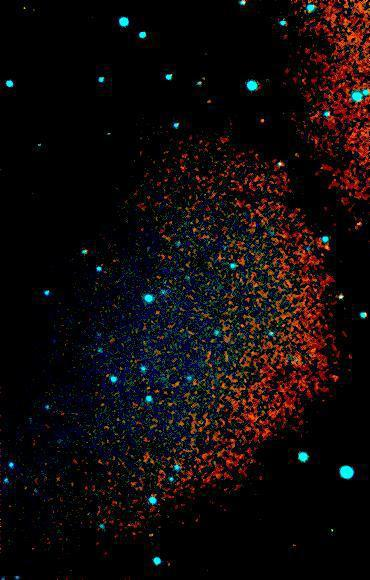star: (312, 233, 342, 263)
